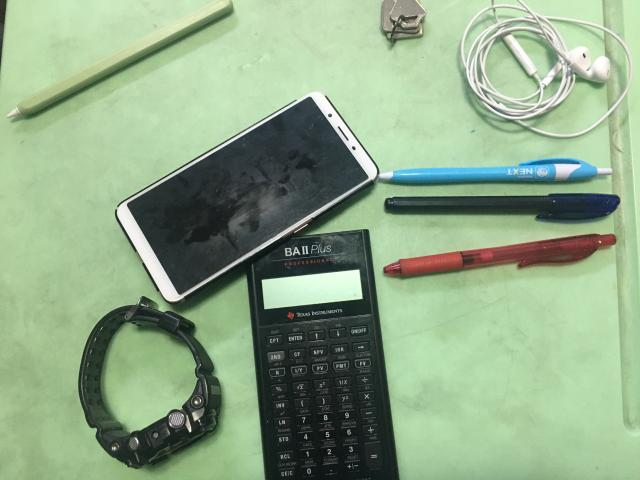Keys: (380, 0, 426, 43)
Mobile phone: (114, 93, 381, 304)
Pen: (384, 234, 616, 276), (385, 194, 620, 220), (380, 158, 610, 182)
Watch: (79, 298, 221, 469)
wire: (461, 0, 632, 138)
